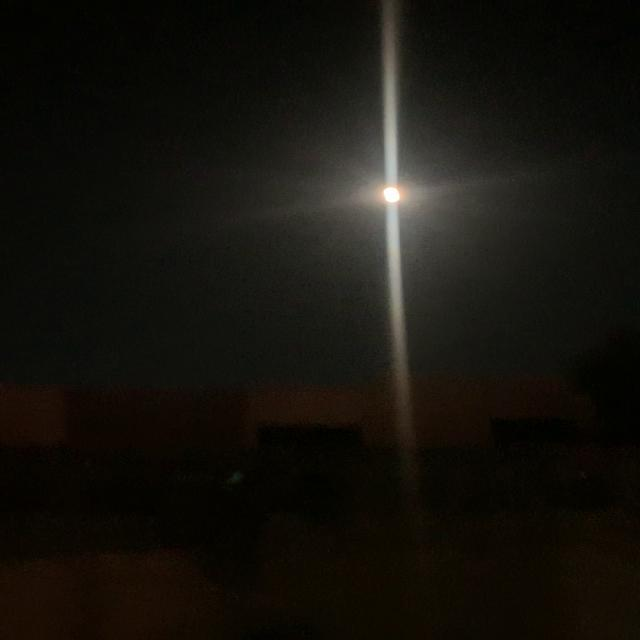moon: (360, 176, 420, 209)
